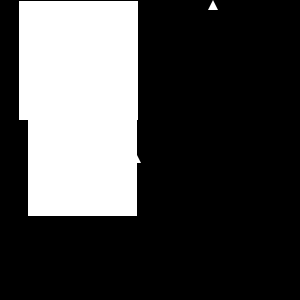circle: (19, 1, 138, 120), (28, 107, 137, 216), (78, 143, 108, 173)
triangle: (87, 109, 141, 163), (208, 0, 218, 10)
